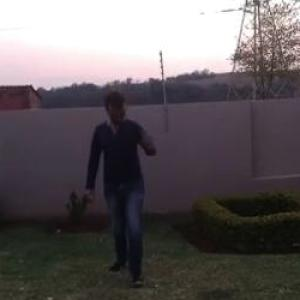takeoff-hand: (134, 124, 164, 163)
